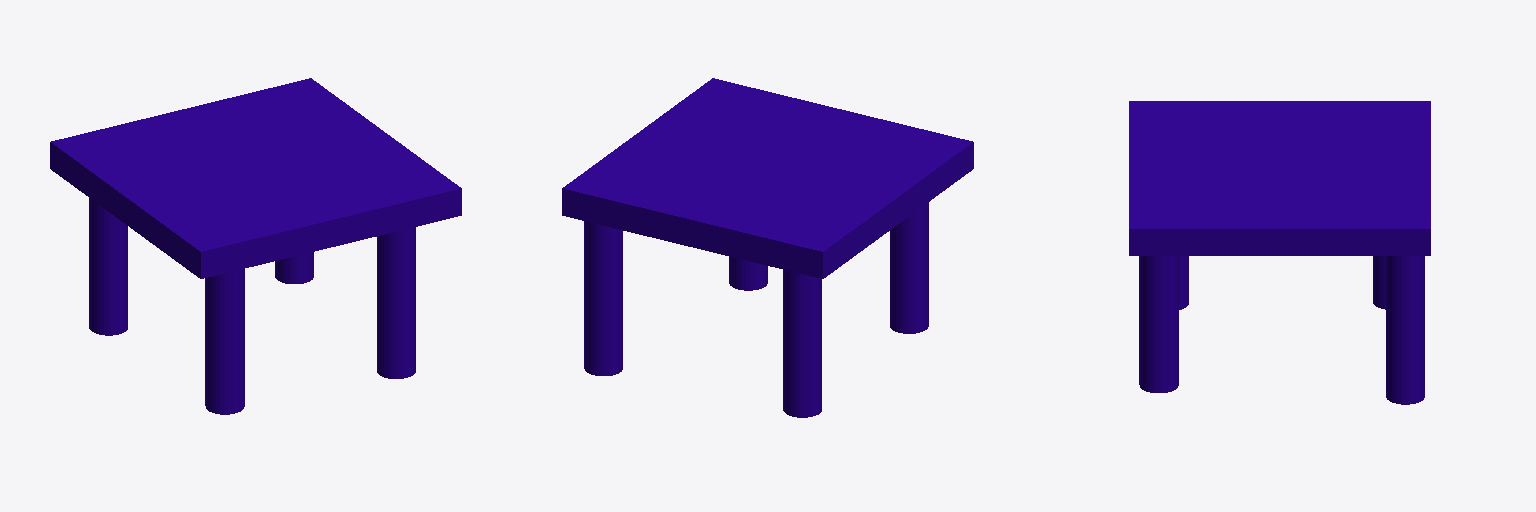
File: stol.obj
The picture shows the model from 3 angles: view 1: azimuth 30°, elevation 25°; view 2: azimuth 150°, elevation 25°; view 3: azimuth 270°, elevation 25°; orthographic projection.
Parts seen in each view (by area): view 1: Cube; view 2: Cube; view 3: Cube.
Boxes of the visible parts, x1,y1,x2,y2 form: Cube: [50, 78, 461, 414]; Cube: [562, 78, 973, 417]; Cube: [1129, 101, 1430, 404].
Size of the model in its own units: 1.54 by 1.02 by 1.54.